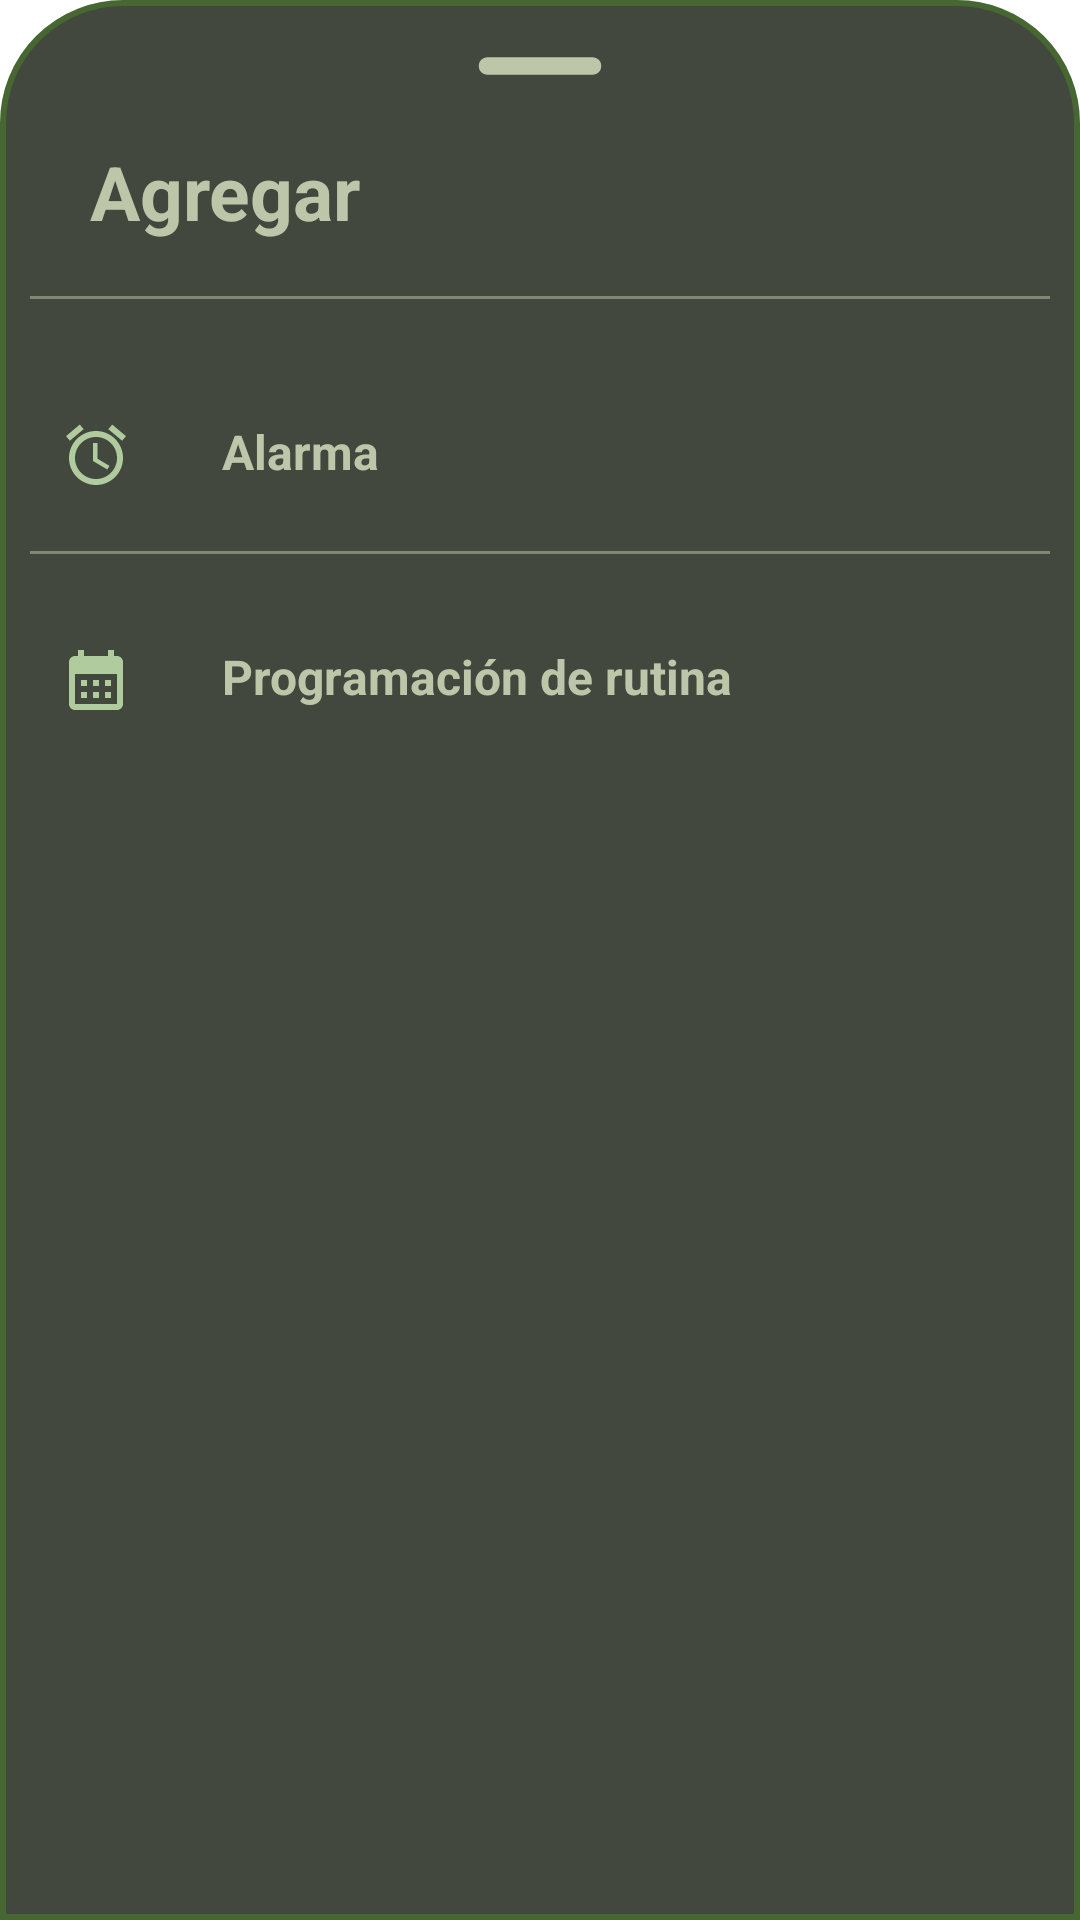

Icon bounding boxes for this 1080 x 1920 phone screenshot, format detection(x1, y1, x2, y2):
access alarm: detection(66, 425, 126, 485)
calendar month: detection(69, 650, 123, 710)
